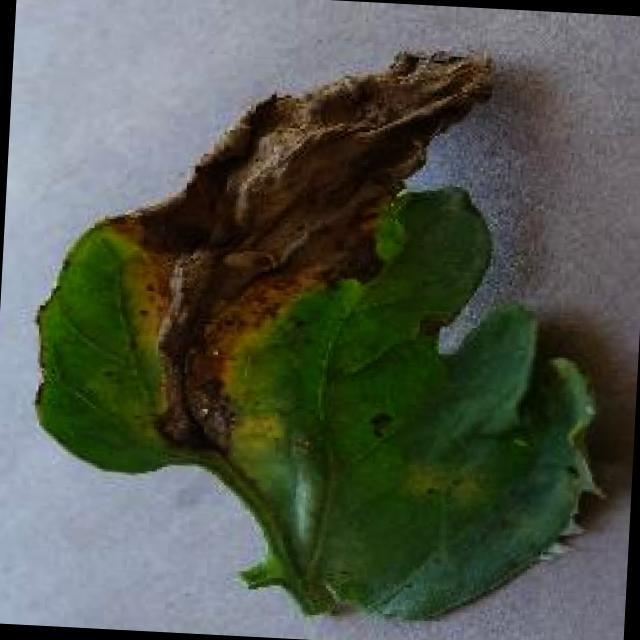Tomato Early blight leaf: (23, 32, 622, 636)
